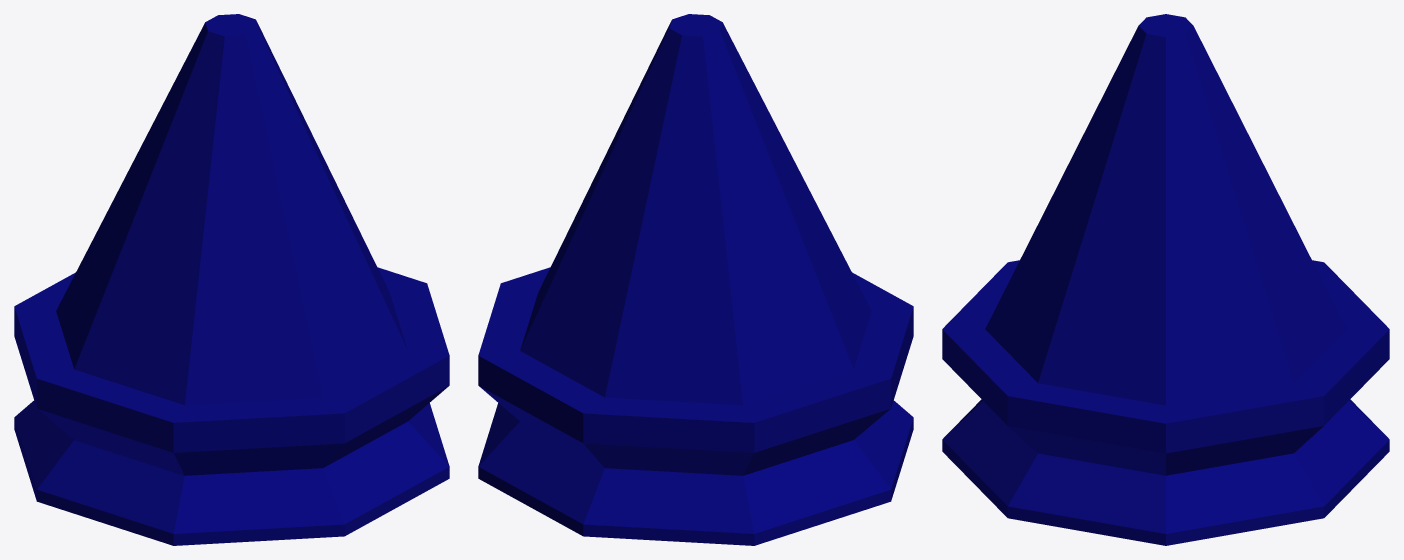
Rendered from block.dae.
3 renders of one model, left to right at view 1: azimuth 30°, elevation 25°; view 2: azimuth 150°, elevation 25°; view 3: azimuth 270°, elevation 25°, orthographic.
Visible parts, largest first — view 1: Cylinder; view 2: Cylinder; view 3: Cylinder.
Boxes of the visible parts, x1=… form: Cylinder: x1=14, y1=14, x2=449, y2=545; Cylinder: x1=478, y1=14, x2=913, y2=545; Cylinder: x1=942, y1=14, x2=1389, y2=545.
Size of the model in its own units: 0.6943 by 0.6943 by 0.7288.
1 material, 1 textured.
